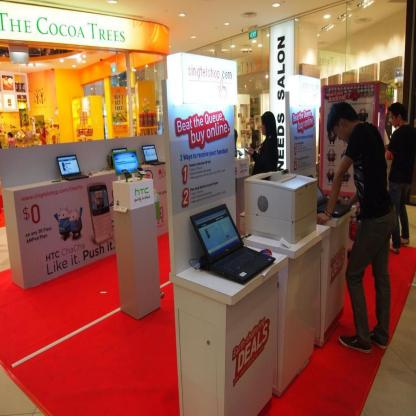board: (189, 202, 277, 289), (308, 174, 352, 218), (56, 154, 88, 181), (141, 144, 165, 166), (111, 146, 128, 153)
